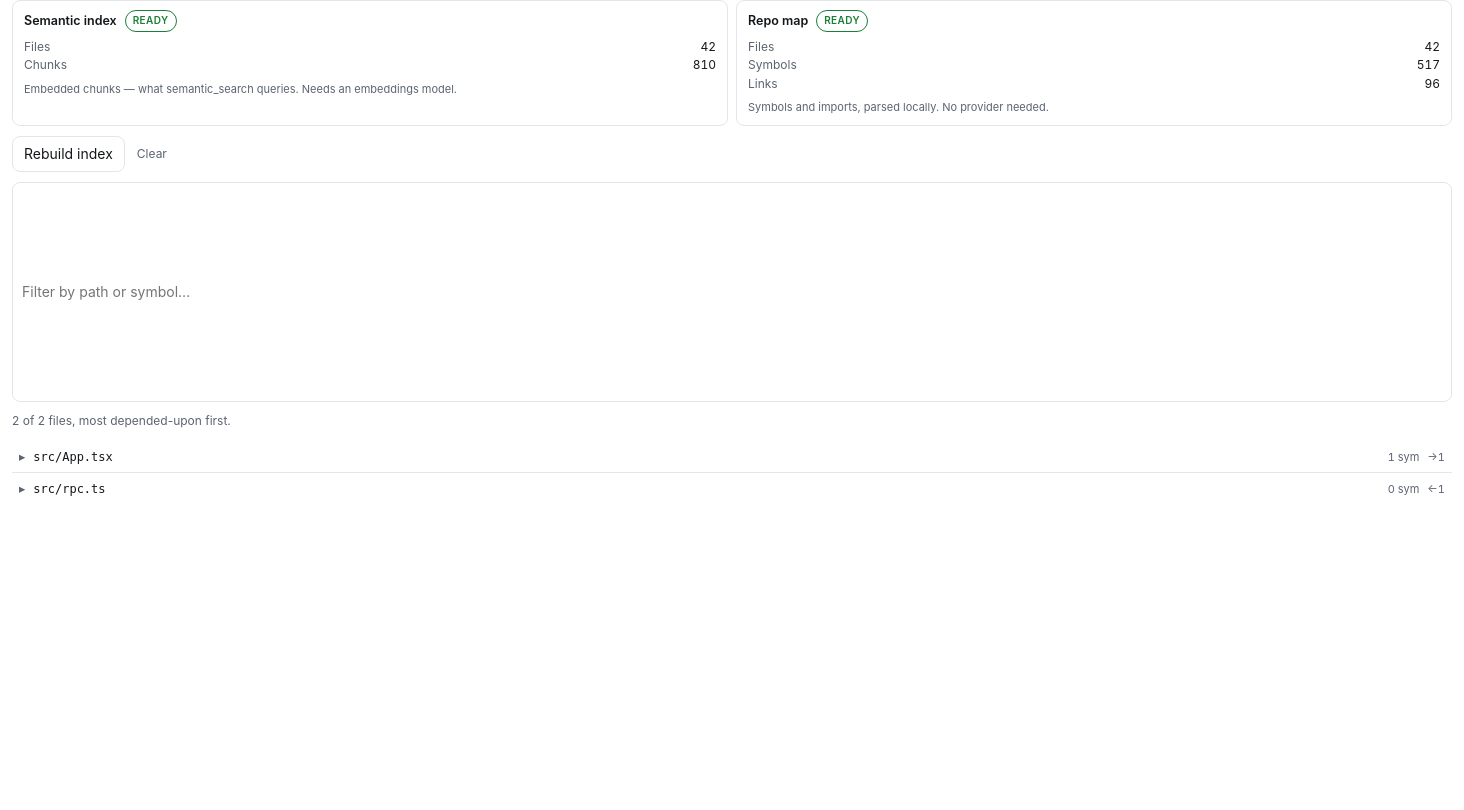
Test case: IndexView › shows both directions of the import graph
The width and height of the screenshot is (1464, 810).
Expected: the text "←1" is shown, [1427, 481, 1445, 498]
Click the text with class "idx-path" showing "src/rpc.ts": x=69, y=489 [33, 482, 106, 496]
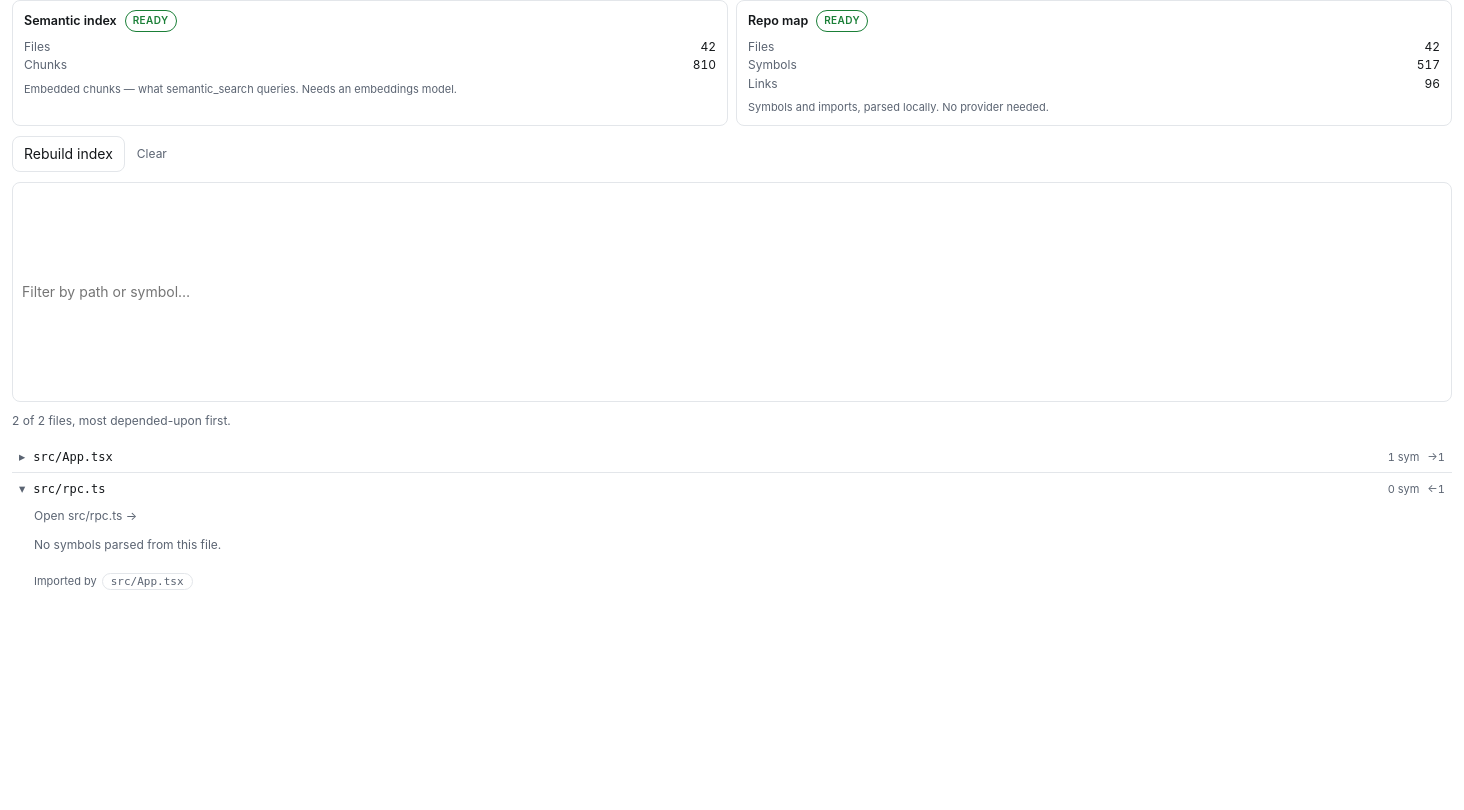
Now the text "Imported by" is shown, box [34, 573, 97, 590]
Now the text "No symbols parsed from this file." is shown, box [34, 536, 221, 555]
